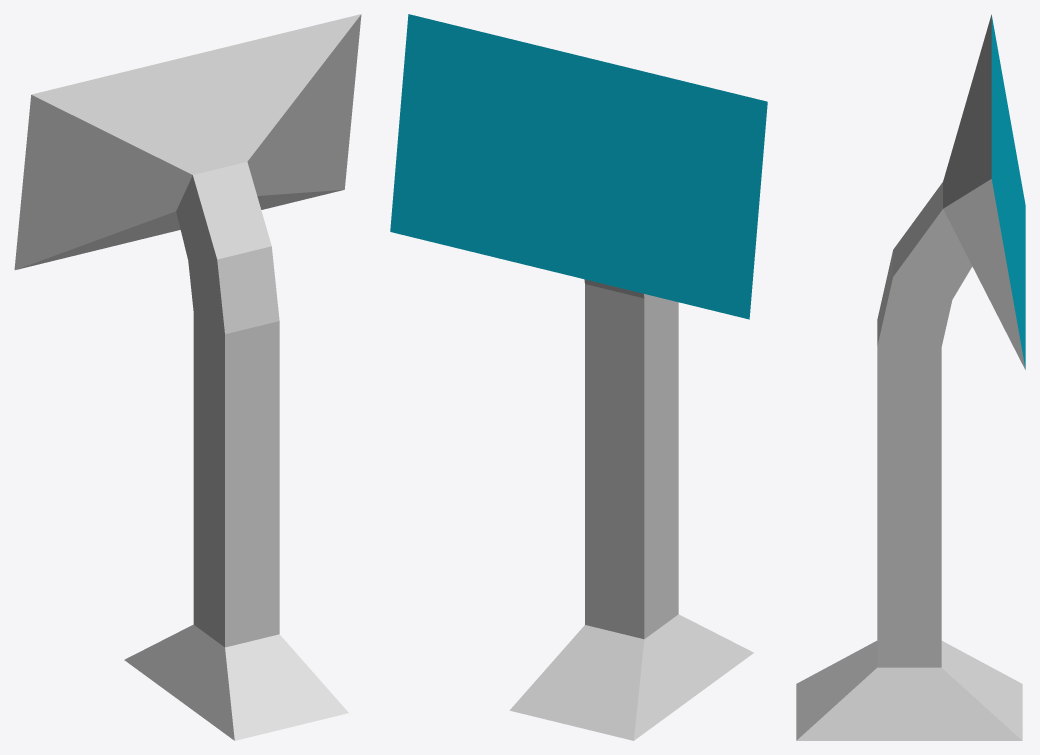
Rendered from PanelWStand.fbx.
The picture shows the model from 3 angles, left to right: view 1: azimuth 30°, elevation 25°; view 2: azimuth 150°, elevation 25°; view 3: azimuth 270°, elevation 25°; orthographic projection. The views are drawn at different scales.
Parts seen in each view (by area): view 1: Cube; view 2: Cube; view 3: Cube.
Part boxes in pixels (bbox=[...]): Cube: bbox=[14, 14, 361, 740]; Cube: bbox=[390, 14, 767, 740]; Cube: bbox=[796, 14, 1025, 740].
Bounding box in the file's own units: 1210 × 2111 × 713.
